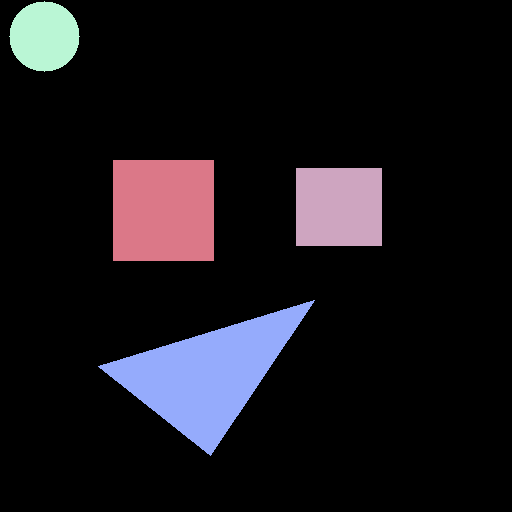circle: (9, 1, 79, 71)
rectangle: (296, 168, 381, 245)
square: (113, 160, 213, 260)
triangle: (98, 300, 314, 455)
